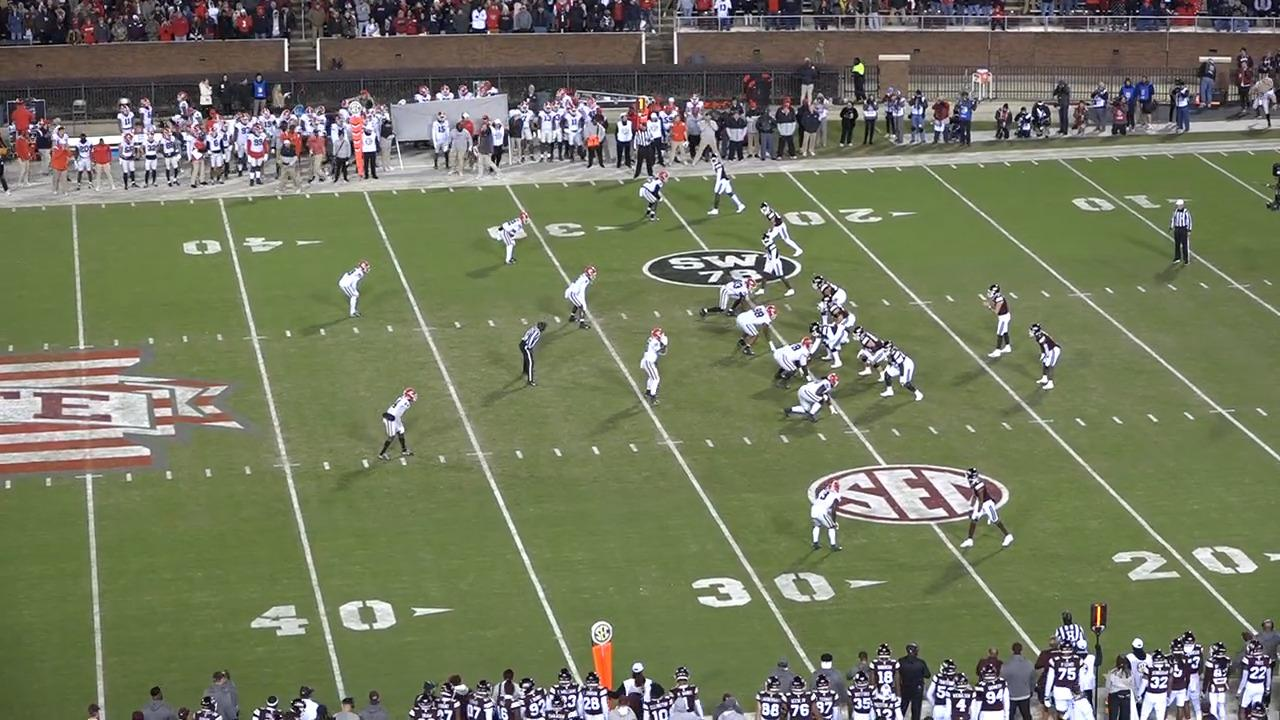defense: (372, 384, 414, 460), (808, 477, 848, 555), (783, 375, 837, 427), (702, 275, 760, 318), (776, 339, 821, 394), (731, 305, 775, 359), (643, 326, 672, 407), (569, 267, 602, 333), (334, 258, 368, 318), (493, 210, 525, 265), (642, 170, 671, 225)
oline: (881, 341, 927, 403), (852, 325, 890, 383), (807, 321, 846, 370), (818, 300, 858, 330), (812, 275, 848, 307)
qb: (978, 282, 1011, 363)
ref: (631, 118, 665, 180), (1166, 198, 1196, 267), (517, 319, 545, 390), (1052, 607, 1086, 656)
skill: (953, 466, 1014, 556), (751, 235, 792, 301), (760, 200, 804, 258), (706, 154, 745, 217), (1026, 322, 1061, 392)
